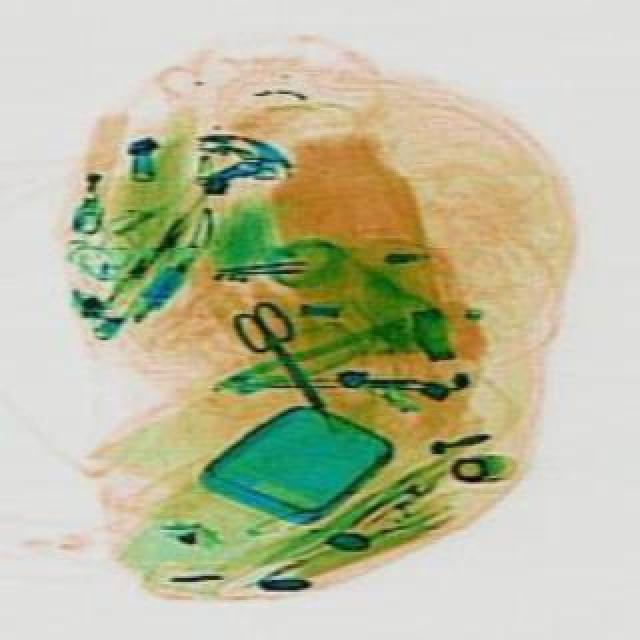pliers: (220, 292, 338, 424)
